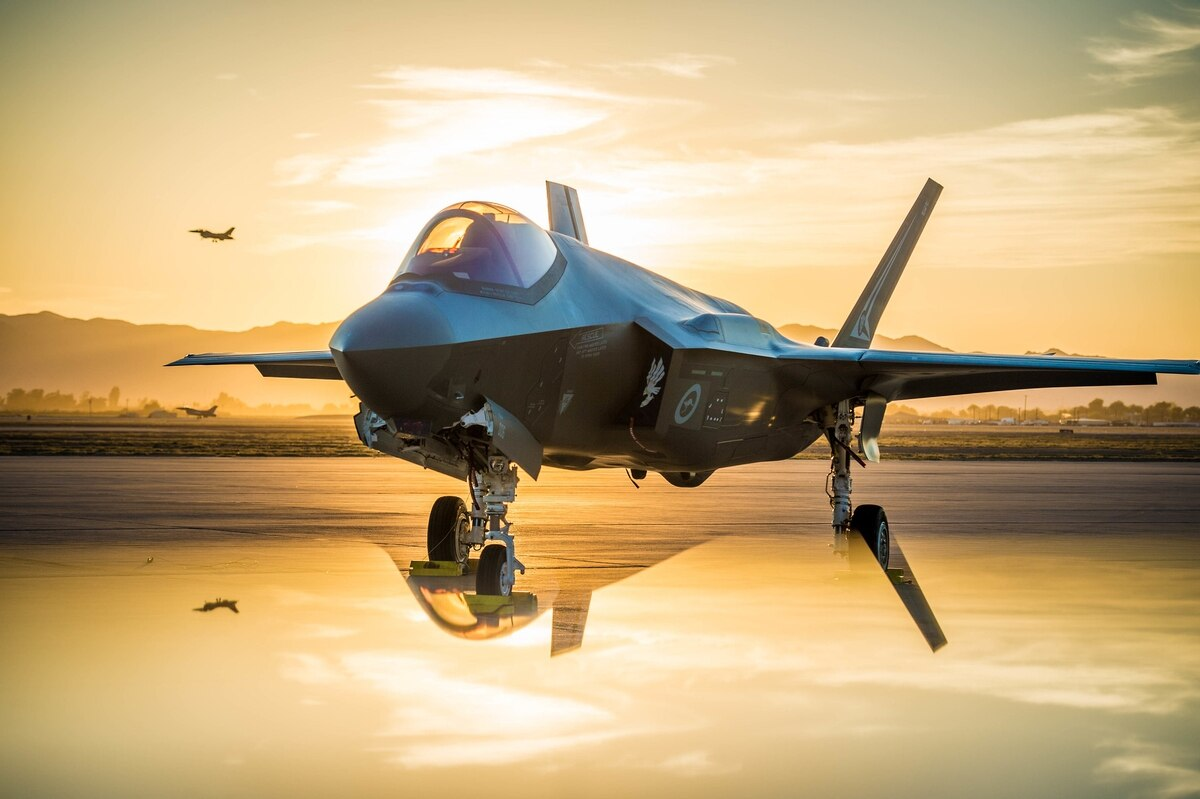F-35 Lightning: (248, 175, 1074, 608)
